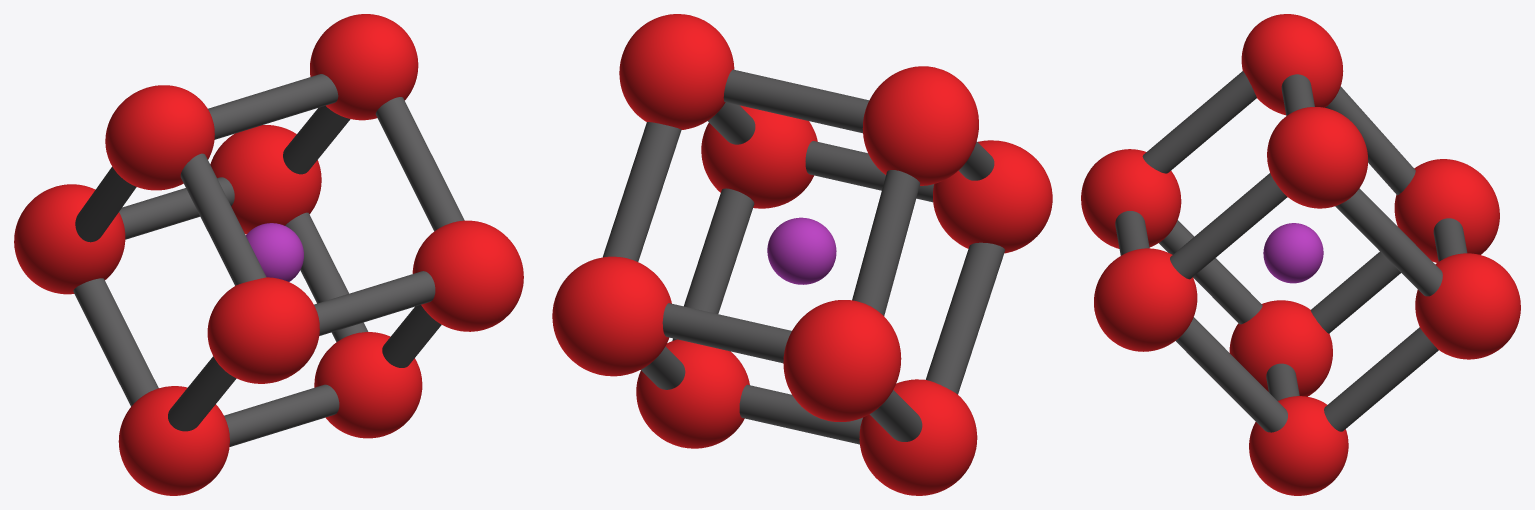
Rendered from BCC.fbx.
3 renders of one model, left to right at view 1: azimuth 30°, elevation 25°; view 2: azimuth 150°, elevation 25°; view 3: azimuth 270°, elevation 25°, orthographic. The views are drawn at different scales.
Visible parts, largest first — view 1: node_id395, node_id392, node_id393, node_id391, node_id394, node_id390, node_id389, node_id388, node_id274, node_id276, node_id398, node_id273 (+9 smaller); view 2: node_id390, node_id388, node_id393, node_id394, node_id395, node_id391, node_id389, node_id392, node_id385, node_id397, node_id396, node_id273 (+9 smaller); view 3: node_id388, node_id392, node_id394, node_id390, node_id393, node_id389, node_id395, node_id391, node_id386, node_id274, node_id400, node_id276 (+9 smaller).
Boxes of the visible parts, x1,y1,x2,y2 form: node_id395: (207, 277, 319, 383); node_id392: (412, 220, 523, 331); node_id393: (105, 85, 214, 190); node_id391: (118, 386, 229, 495); node_id394: (310, 14, 418, 120); node_id390: (14, 184, 125, 294); node_id389: (314, 332, 422, 438); node_id388: (210, 125, 321, 234); node_id274: (375, 97, 464, 231); node_id276: (180, 153, 266, 285); node_id398: (73, 278, 158, 406); node_id273: (208, 74, 338, 139); node_id390: (783, 300, 901, 421); node_id388: (552, 256, 671, 376); node_id393: (862, 66, 978, 185); node_id394: (619, 14, 734, 129); node_id395: (933, 140, 1052, 253); node_id391: (859, 379, 977, 495); node_id389: (636, 339, 749, 448); node_id392: (701, 105, 817, 208); node_id385: (925, 242, 1004, 394); node_id397: (603, 122, 681, 261); node_id396: (852, 170, 920, 316); node_id273: (723, 69, 869, 133); node_id388: (1415, 253, 1520, 359); node_id392: (1094, 248, 1197, 351); node_id394: (1267, 107, 1368, 208); node_id390: (1394, 159, 1499, 262); node_id393: (1241, 14, 1343, 115); node_id389: (1249, 396, 1348, 495); node_id395: (1081, 149, 1181, 248); node_id391: (1229, 300, 1332, 396); node_id386: (1176, 317, 1287, 432); node_id274: (1170, 173, 1287, 279); node_id400: (1324, 327, 1438, 431); node_id276: (1142, 71, 1256, 173).
Bounding box in the file's own units: 0.3535 × 0.4118 × 0.4283.
Materials: 21 (21 with a texture image).
